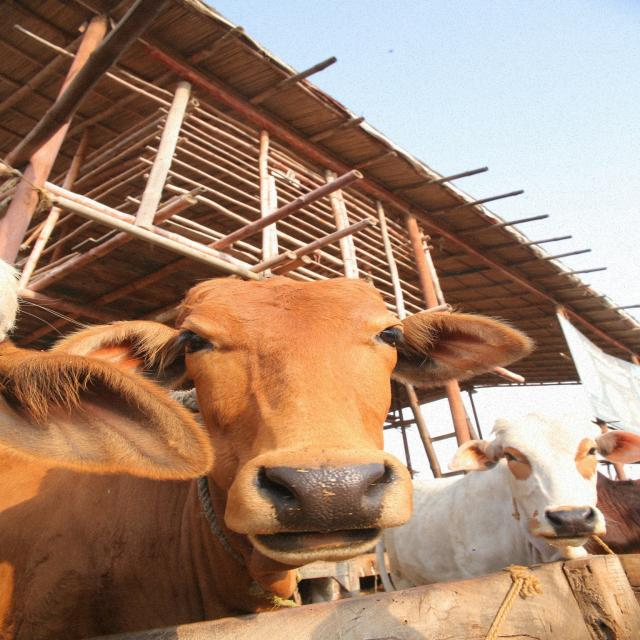muzzles: (243, 453, 411, 537), (532, 504, 607, 539)
